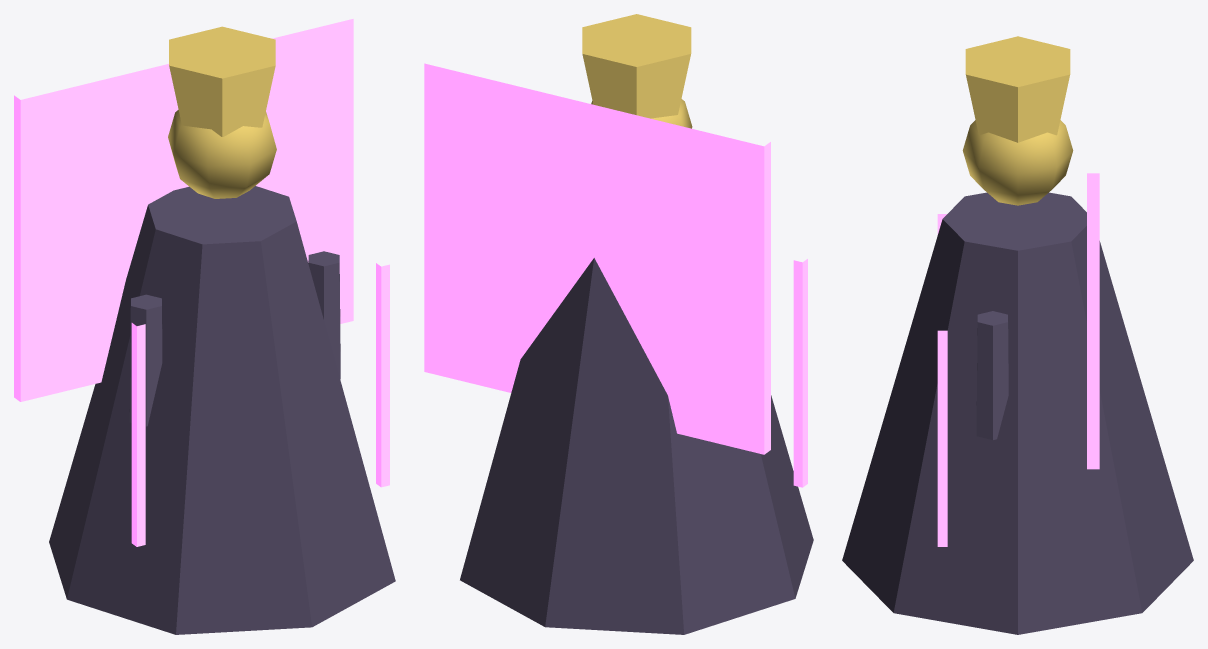
File: boss_shadow_queen.glb
The picture shows the model from 3 angles, left to right: view 1: azimuth 30°, elevation 25°; view 2: azimuth 150°, elevation 25°; view 3: azimuth 270°, elevation 25°; orthographic projection. The views are drawn at different scales.
Visible parts, largest first — view 1: Torso, Wings, Head, Weapon, LeftArm, RightArm; view 2: Wings, Torso, Head, Weapon; view 3: Torso, Head, Wings, RightArm, Weapon.
Part boxes in pixels (left/top/right/bottom): Torso: left=49, top=186, right=395, bottom=634; Wings: left=14, top=19, right=353, bottom=401; Head: left=168, top=26, right=276, bottom=198; Weapon: left=131, top=263, right=389, bottom=546; LeftArm: left=129, top=294, right=162, bottom=426; RightArm: left=308, top=251, right=340, bottom=378; Wings: left=424, top=63, right=770, bottom=454; Torso: left=460, top=258, right=813, bottom=634; Head: left=582, top=14, right=692, bottom=128; Weapon: left=793, top=259, right=807, bottom=487; Torso: left=842, top=192, right=1193, bottom=634; Head: left=962, top=36, right=1073, bottom=205; Wings: left=1087, top=173, right=1099, bottom=469; RightArm: left=976, top=311, right=1008, bottom=439; Weapon: left=937, top=214, right=947, bottom=546.
Size of the model in its own units: 1.5 by 2.19 by 1.4.
